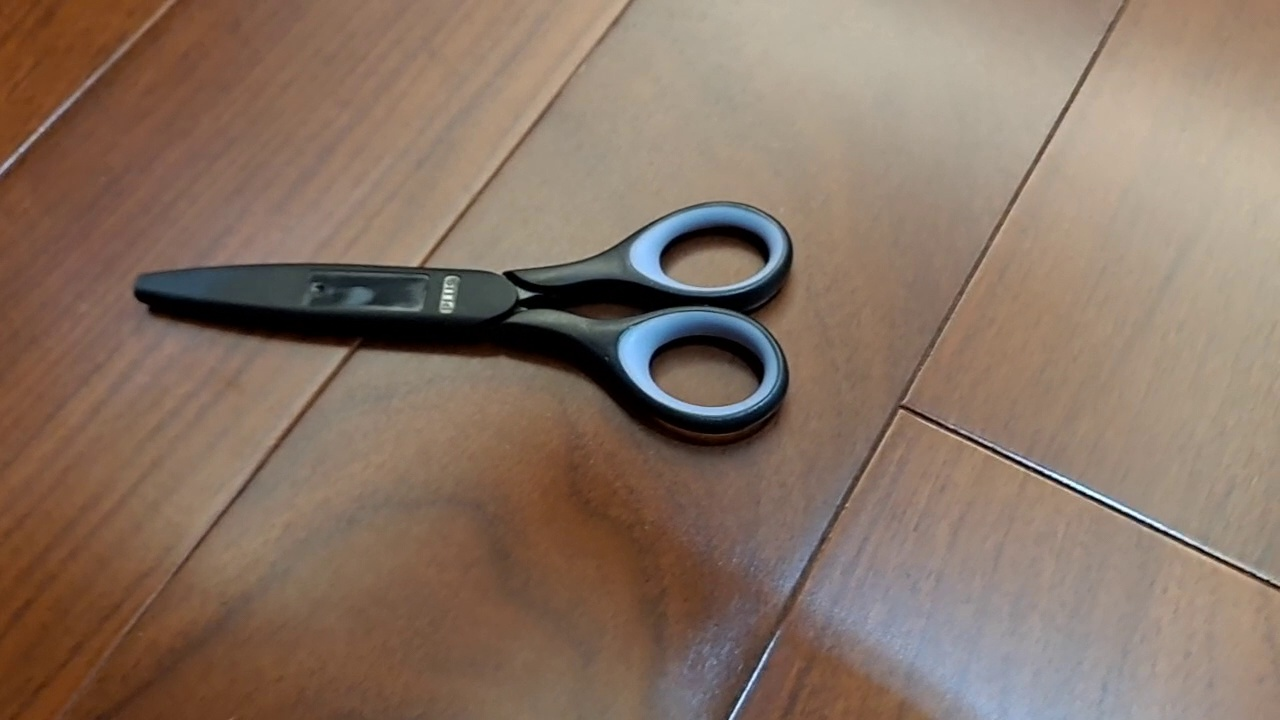scissors: (132, 199, 794, 438)
